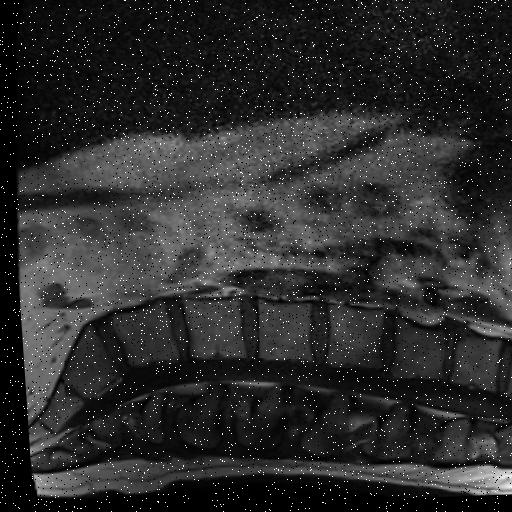L1: (386, 321, 439, 382)
L2: (322, 307, 378, 371)
L3: (253, 303, 306, 361)
L4: (180, 301, 238, 359)
L5: (108, 304, 173, 366)
S1: (58, 324, 116, 398)
